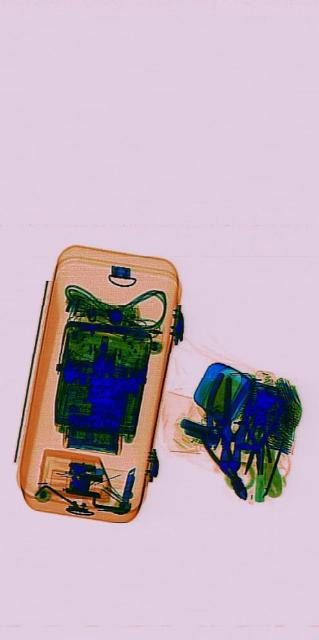Pliers: (197, 408, 253, 512), (212, 364, 255, 482), (236, 386, 278, 482)
